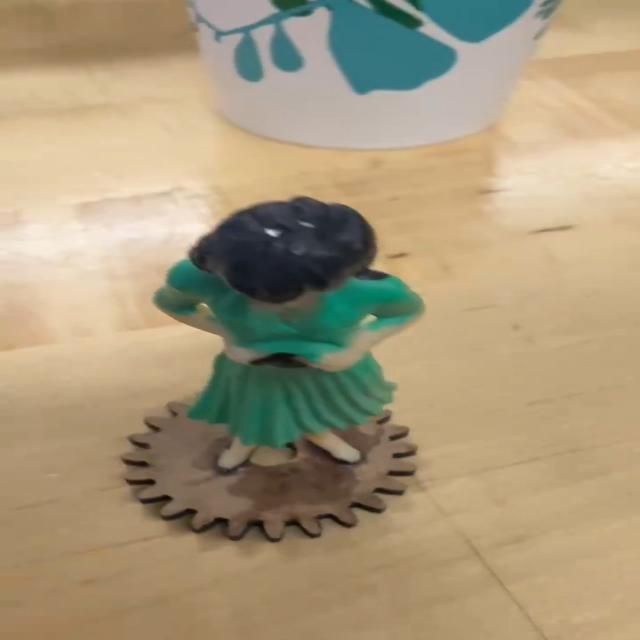Authorized: (147, 200, 539, 532)
